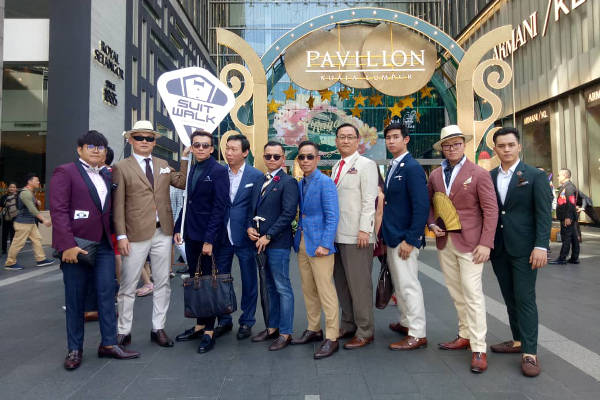feet: (488, 321, 551, 381), (436, 320, 492, 374), (55, 340, 142, 371), (381, 303, 432, 355), (106, 320, 175, 353), (287, 320, 342, 361), (249, 312, 296, 355), (171, 317, 223, 355), (330, 308, 377, 349), (207, 310, 262, 344), (2, 247, 60, 272), (552, 246, 582, 268)
